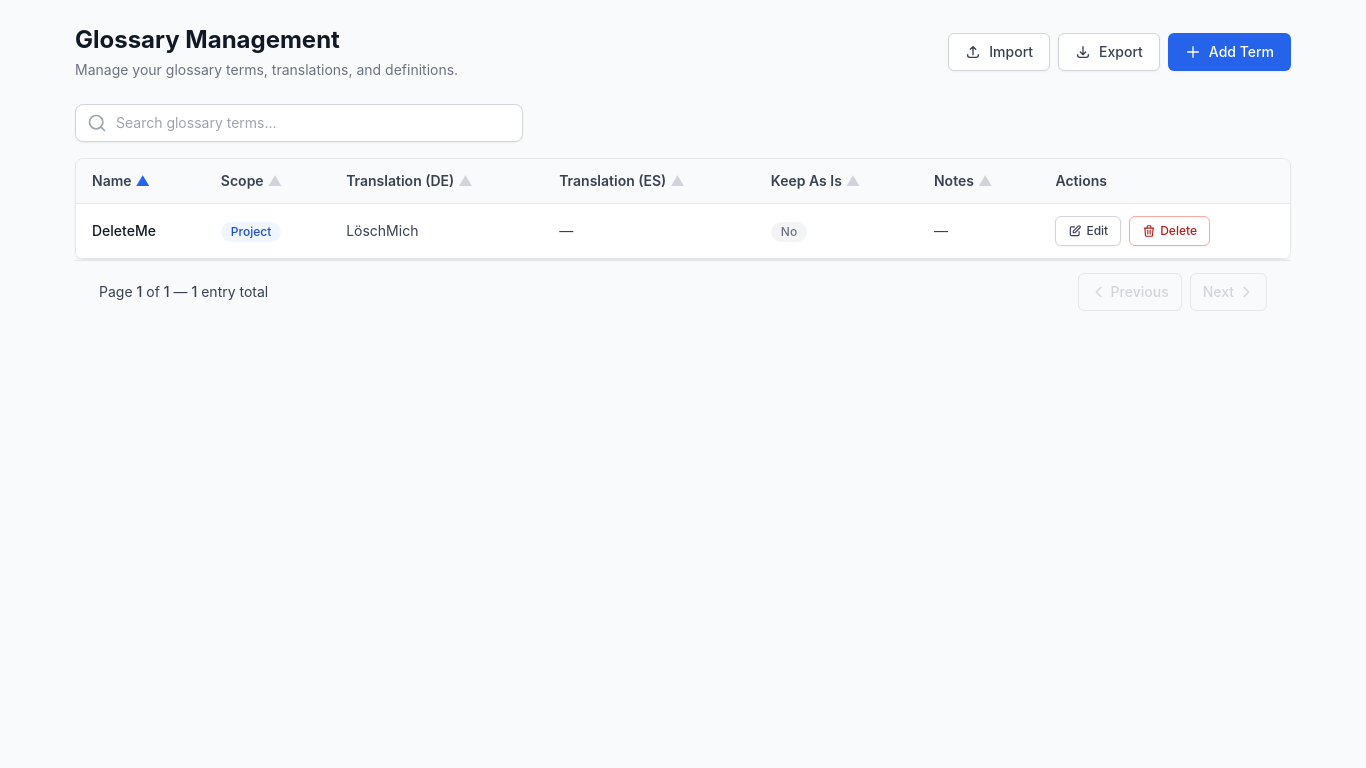
Scenario: App › deleting a term › deletes the term when confirmed
Expected: the text "DeleteMe" is shown, [76,204,205,258]
Step 1. Click the button with aria-label "delete term deleteme" → (1170, 231), box [1129,216,1210,246]
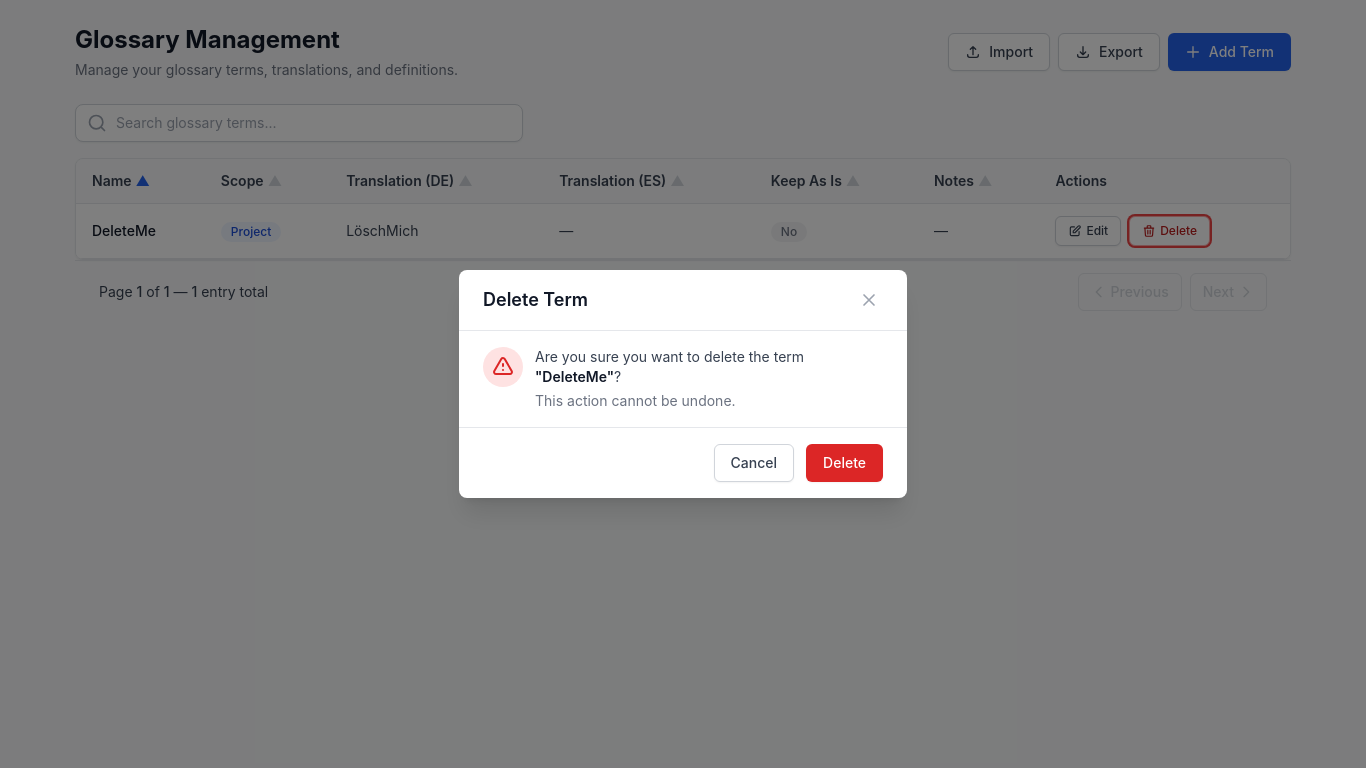
Now the heading "Delete Term" is shown, box [483,286,588,314]
Step 2. Click the button "Delete" → (845, 463), box [806,444,883,482]
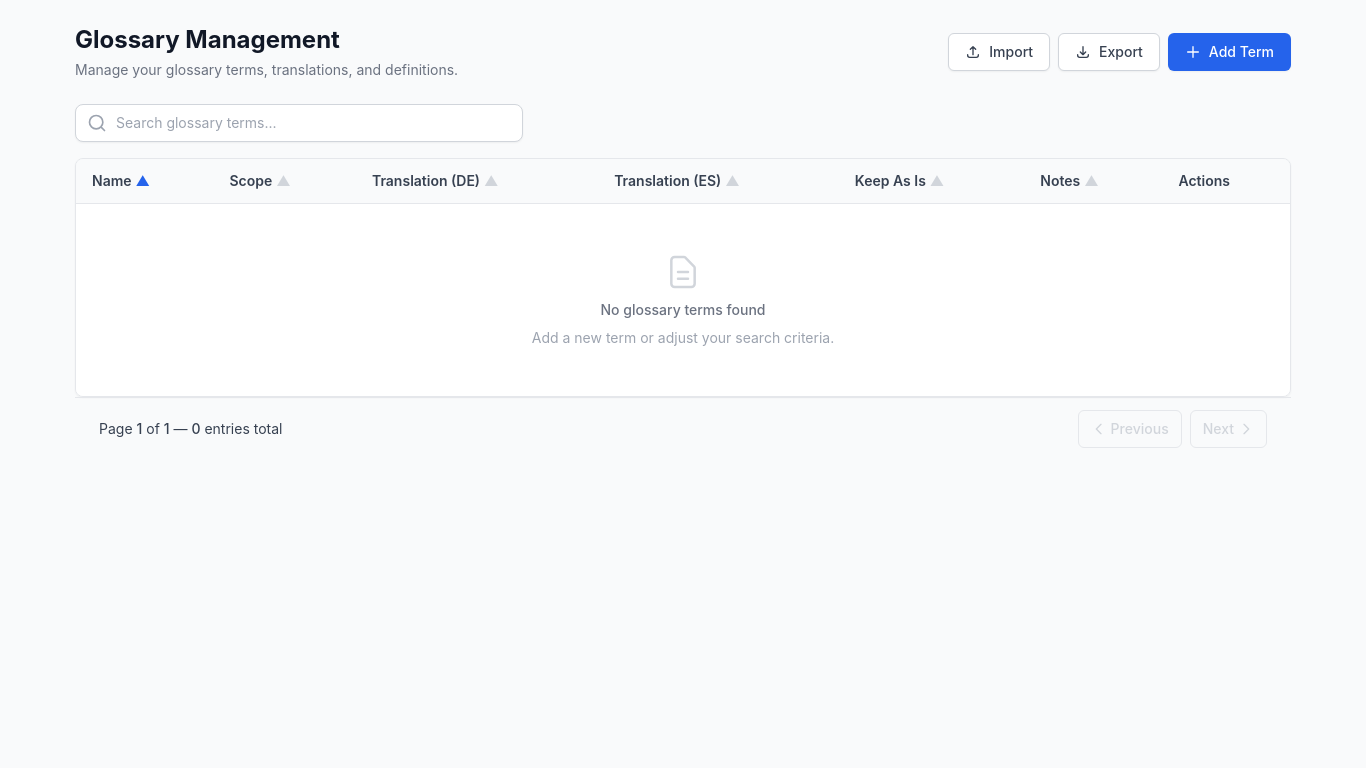
Now the text "DeleteMe" is gone
Now the text "No glossary terms found" is shown, box [600,300,765,320]
